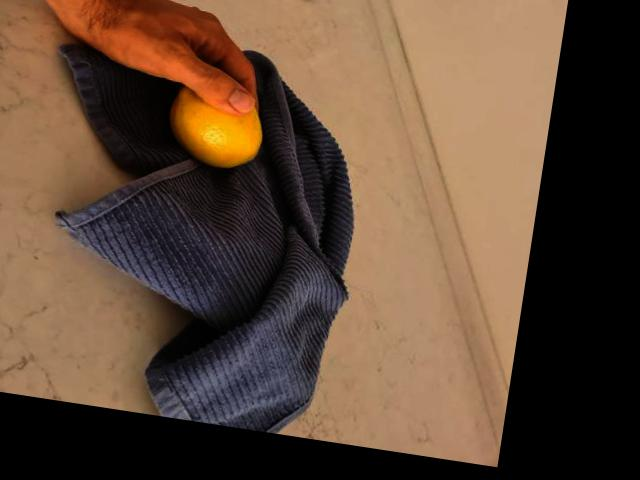lemon: (158, 65, 270, 173)
